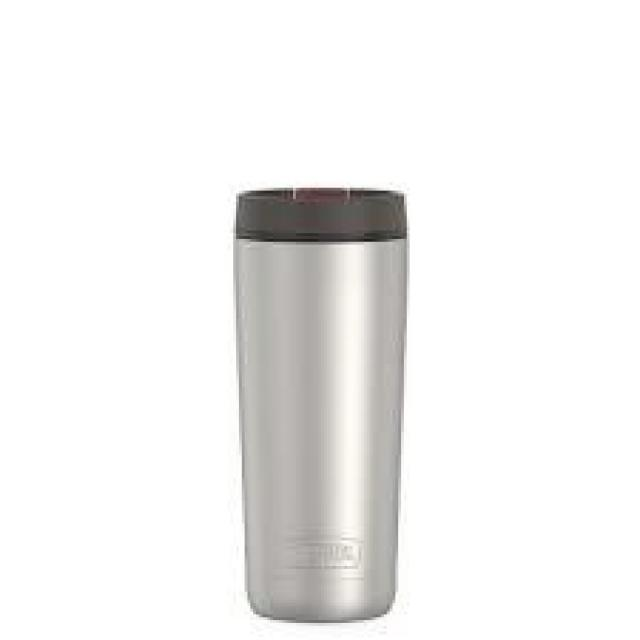bottle: (225, 182, 415, 634)
